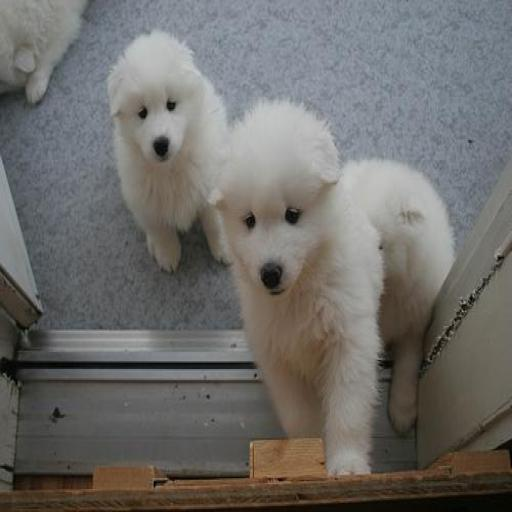dog_face: (208, 118, 338, 305), (109, 39, 196, 165)
